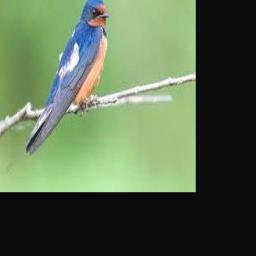Swallow: (25, 0, 110, 154)
